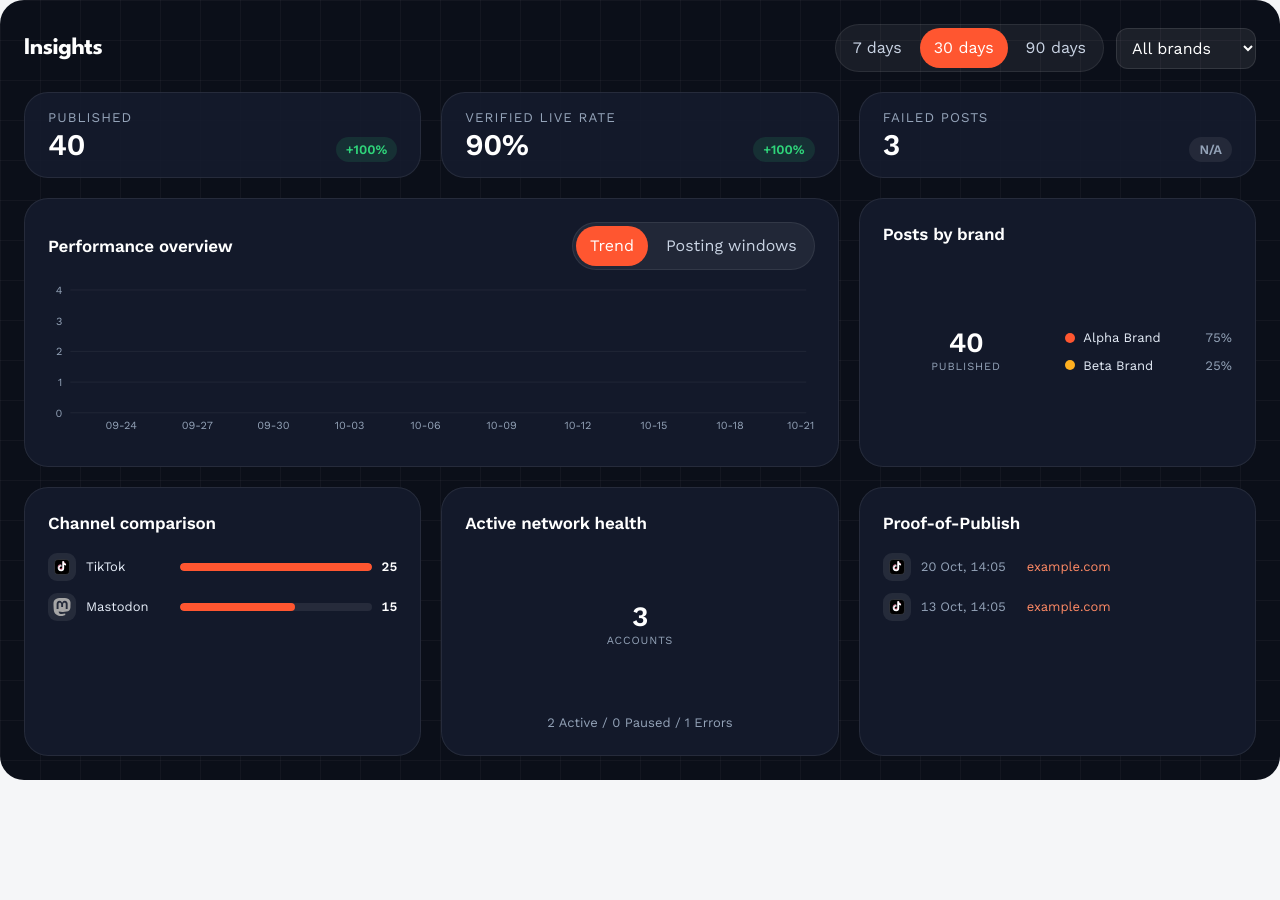
Scenario: performance overview › switches to the posting-windows heatmap and names the busiest window
Click the button "Posting windows" at {"x": 731, "y": 246}, box [652, 226, 811, 266]
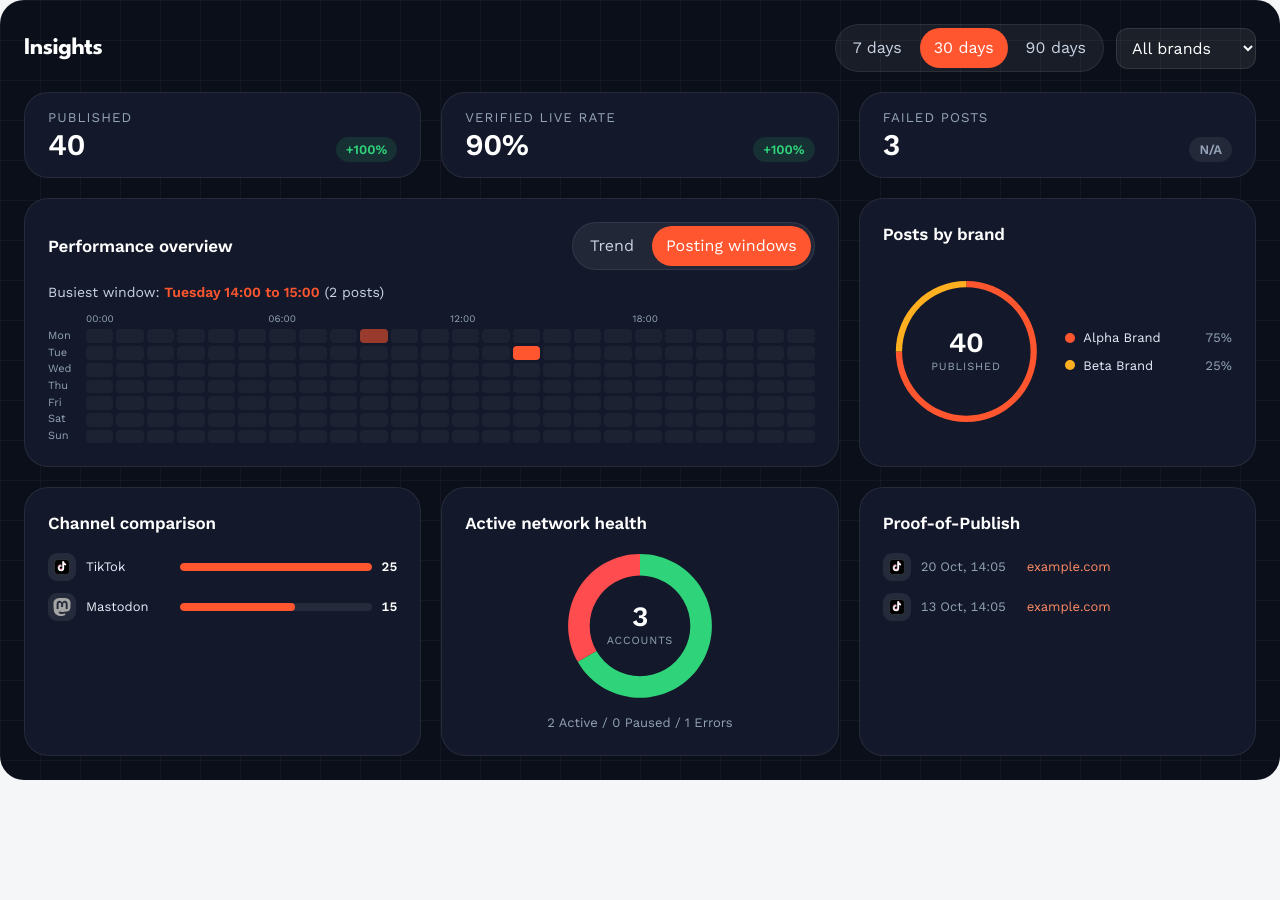
Expected: the text "Busiest window: Tuesday 14:00 to 15:00 (2 posts)" is shown, [48, 284, 384, 300]
